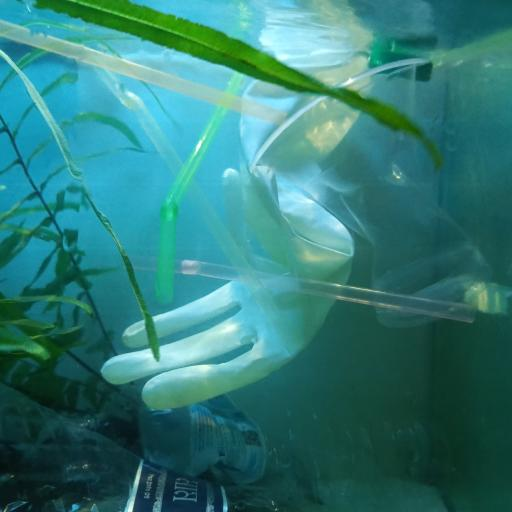bottle_cap: (378, 54, 435, 82)
glove: (102, 63, 351, 418)
plastic_bottle: (0, 384, 326, 512), (83, 403, 456, 495)
plastic_cup: (247, 58, 491, 330)
plastic_straw: (2, 20, 286, 123), (125, 254, 478, 326), (160, 69, 246, 305)
